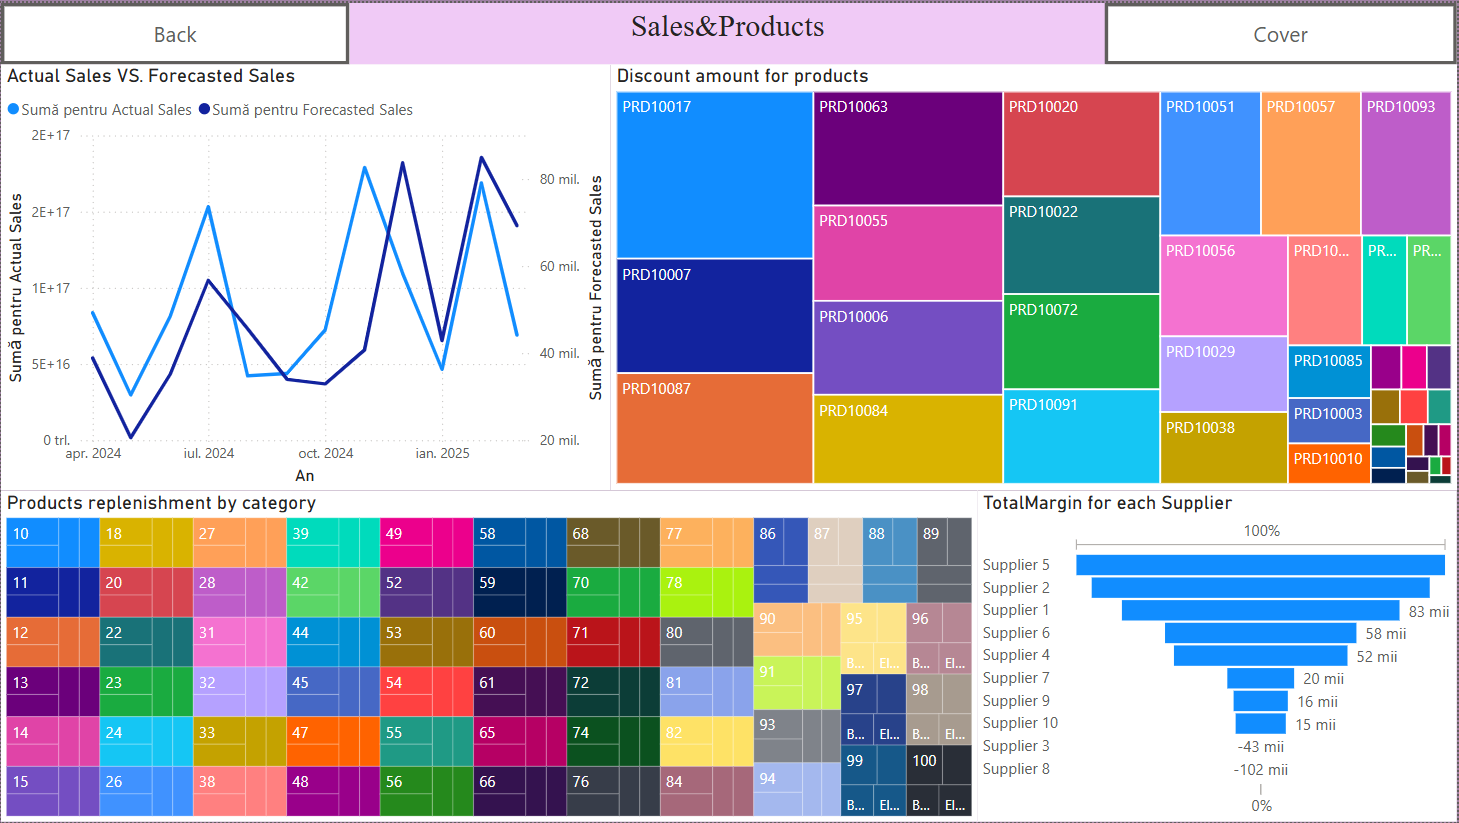

The page's visual inventory and layout, read from the dashboard file:
{"tool":"powerbi","page":{"name":"Sales&Products","canvas":[1280,720],"ordinal":4},"visuals":[{"type":"group","id":"g1","title":"Grup 1","box":[0,0,1280,54],"z":0},{"type":"textbox","box":[306.2,0,664.4,54],"z":0,"group":"g1"},{"type":"actionButton","box":[0,0,306.2,54],"z":1000,"group":"g1"},{"type":"lineChart","title":"Actual Sales VS. Forecasted Sales","fields":{"Y":["Sum(stats_monthly_seasonal_planning_clean.Actual Sales)"],"Category":["stats_monthly_seasonal_planning_clean.Month.Variație.Ierarhie de date.An","stats_monthly_seasonal_planning_clean.Month.Variație.Ierarhie de date.Lună","stats_monthly_seasonal_planning_clean.Month.Variație.Ierarhie de date.Zi"],"Y2":["Sum(stats_monthly_seasonal_planning_clean.Forecasted Sales)"]},"box":[0,54.3,535.7,374.3],"z":1000},{"type":"actionButton","box":[970.6,0,309.4,54],"z":2000,"group":"g1"},{"type":"treemap","title":"Discount amount for products","fields":{"Group":["stats_promotions_and_discounts_clean.Start Date.Variație.Ierarhie de date.An","stats_promotions_and_discounts_clean.Start Date.Variație.Ierarhie de date.Lună","stats_promotions_and_discounts_clean.Start Date.Variație.Ierarhie de date.Zi","stats_promotions_and_discounts_clean.End Date.Variație.Ierarhie de date.An","stats_promotions_and_discounts_clean.End Date.Variație.Ierarhie de date.Lună","stats_promotions_and_discounts_clean.End Date.Variație.Ierarhie de date.Zi","stats_promotions_and_discounts_clean.Discount Type","stats_promotions_and_discounts_clean.Promotion ID","stats_promotions_and_discounts_clean.Product ID"],"Values":["Sum(stats_promotions_and_discounts_clean.Discount Amount)"]},"box":[536,54,744,374],"z":2000},{"type":"funnel","title":"TotalMargin for each Supplier","fields":{"Category":["stats_product_information_clean.Supplier"],"Y":["stats_product_information_clean.TotalMargin"]},"box":[858.6,428.6,421.4,291.4],"z":3000},{"type":"treemap","title":"Products replenishment by category","fields":{"Group":["stats_inventory_data_clean.Replenishment","stats_product_information_clean.Unit Cost"],"Details":["stats_product_information_clean.Category"],"Values":["stats_product_information_clean.CountProduct"]},"box":[0,428.6,858.6,291.4],"z":4000}]}

Visuals, with their boxes in screenshot pixels (x1, y1, x2, y2), scaled from the page's 1280x720 canvas onto the 1459x823 screenshot:
"Grup 1" group: <bbox>0, 0, 1458, 62</bbox>
textbox: <bbox>349, 0, 1106, 62</bbox>
actionButton: <bbox>0, 0, 349, 62</bbox>
"Actual Sales VS. Forecasted Sales" lineChart: <bbox>0, 62, 611, 490</bbox>
actionButton: <bbox>1106, 0, 1458, 62</bbox>
"Discount amount for products" treemap: <bbox>611, 62, 1458, 489</bbox>
"TotalMargin for each Supplier" funnel: <bbox>979, 490, 1458, 822</bbox>
"Products replenishment by category" treemap: <bbox>0, 490, 979, 822</bbox>
